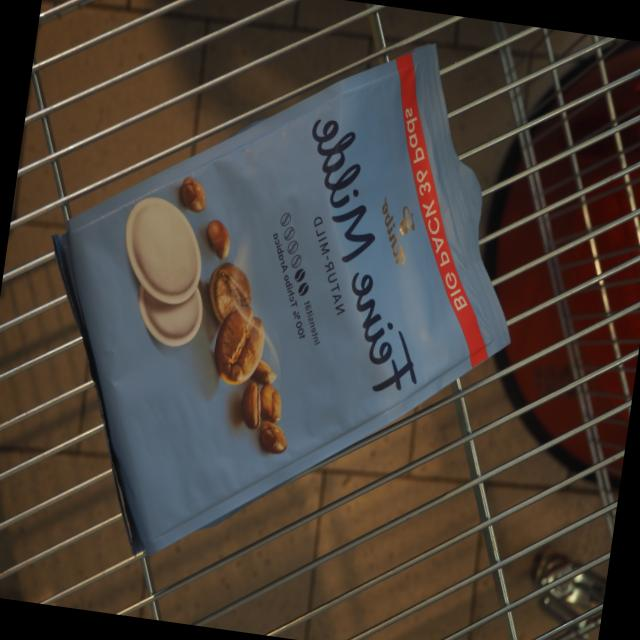FM 36 Pads: (43, 30, 523, 586)
